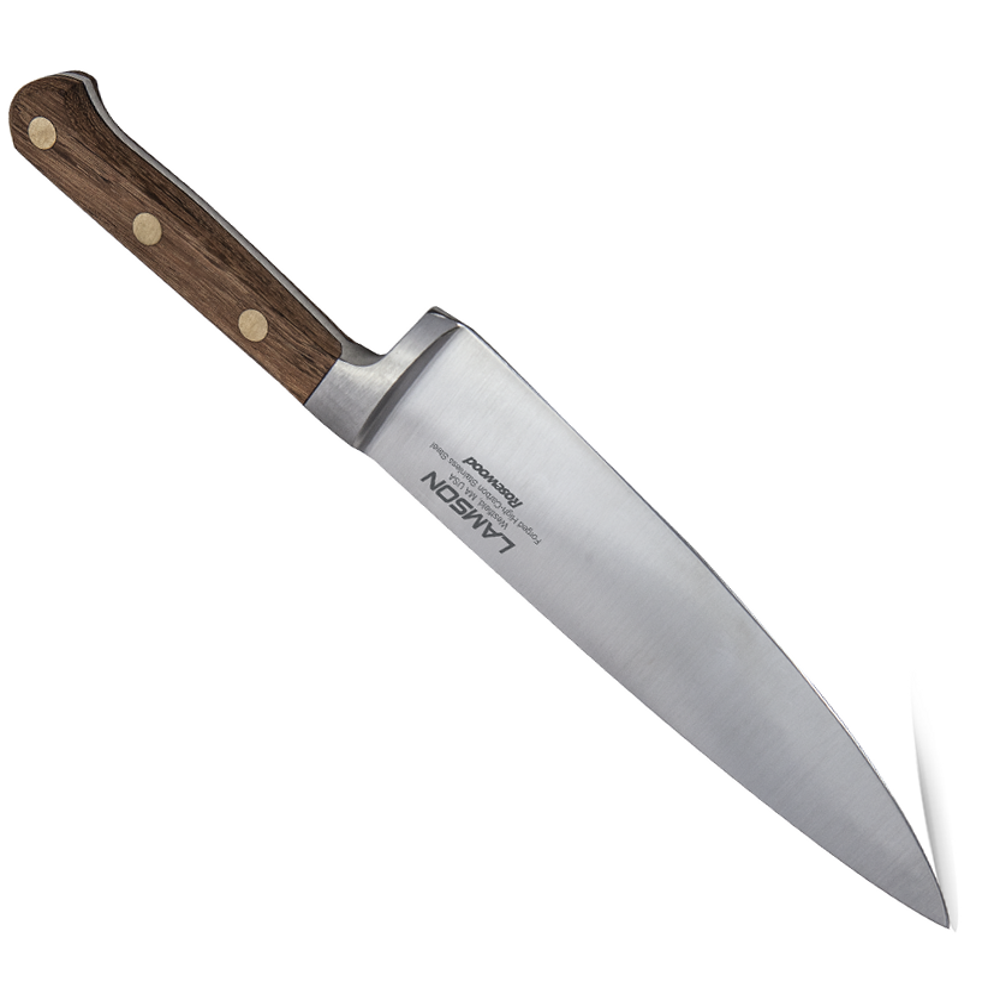knife: (6, 66, 952, 928)
